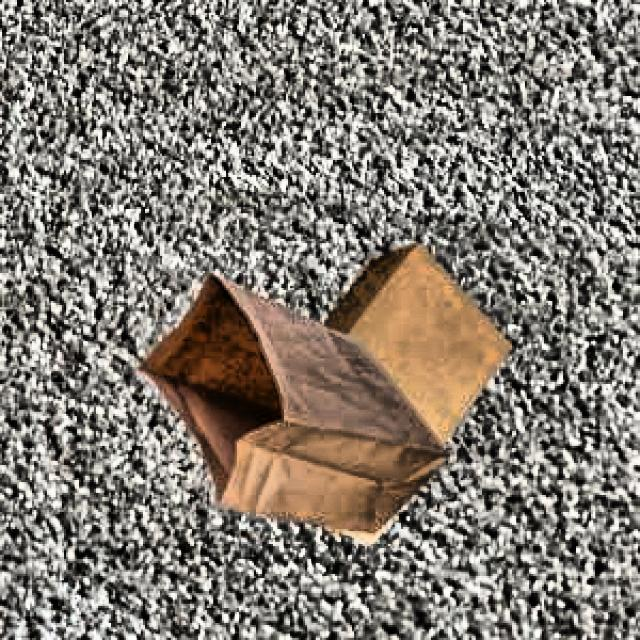Paper-bag: (129, 282, 449, 543), (278, 236, 514, 535)
